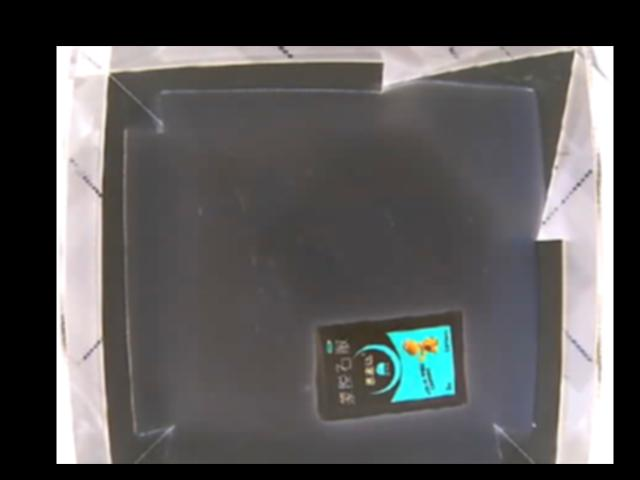Medicine: (314, 307, 468, 421)
